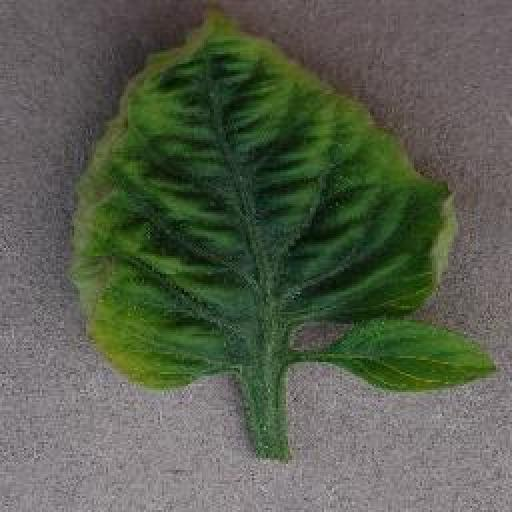disease_tomato: (72, 6, 498, 392)
